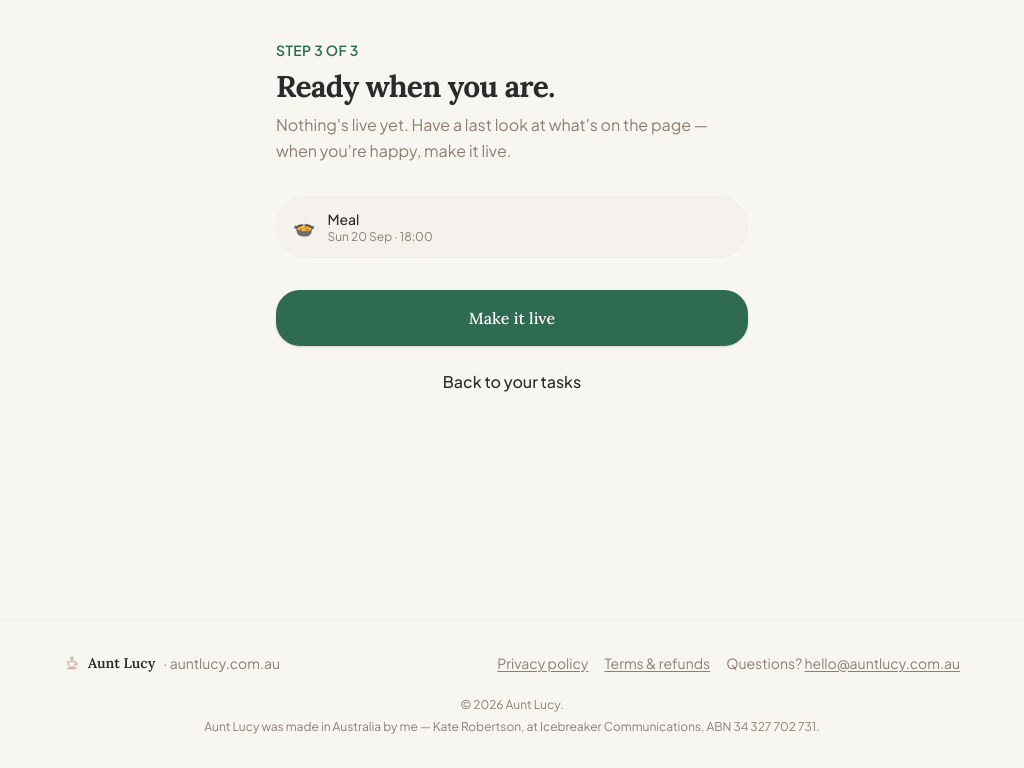
Test: going live takes the button AND the confirm › the button alone publishes nothing; answering the confirm publishes — once
This screenshot has width=1024, height=768.
Click the button "Make it live" at (512, 318), box top-left (276, 290), bottom-right (748, 346)
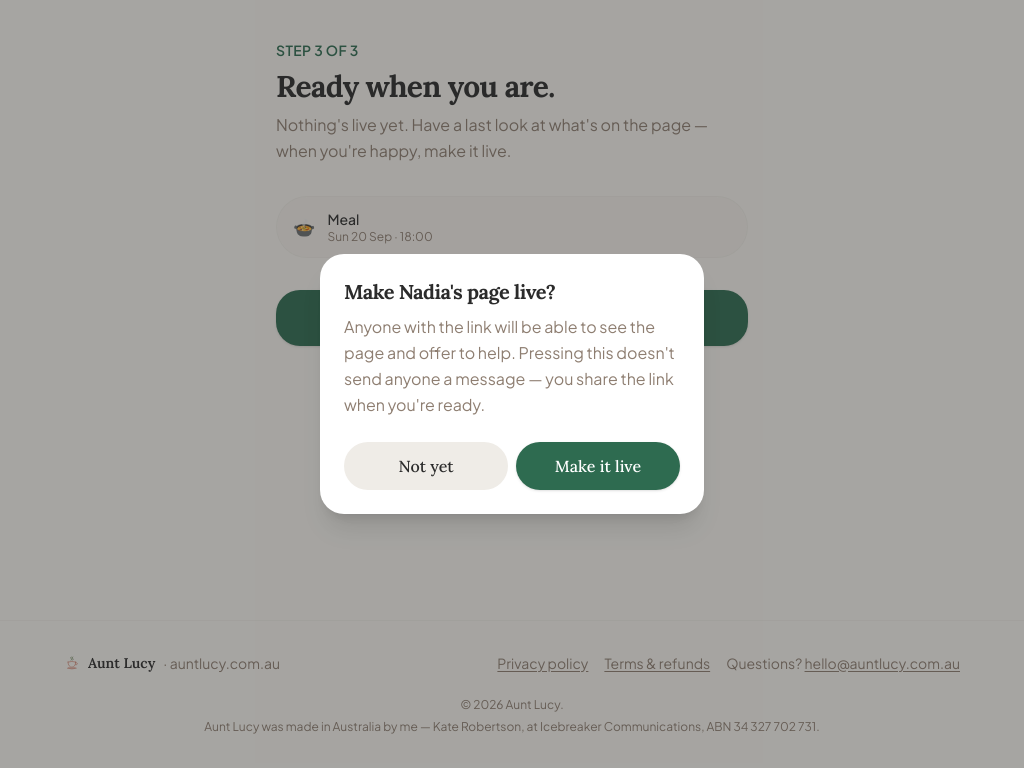
# THE POSITIVE CONTROL: the guard discriminates, it does not just block.
Click the button "Make it live" at (598, 466), box top-left (516, 442), bottom-right (680, 490)
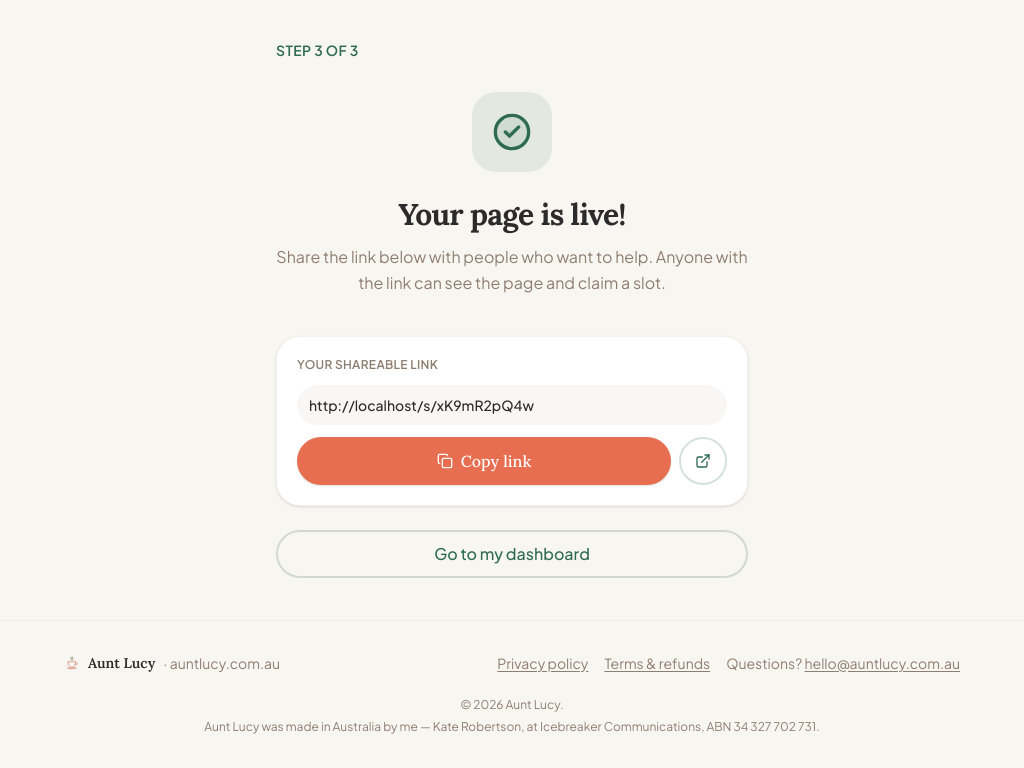
Expected: the text "http://localhost/s/xK9mR2pQ4w" is shown, top-left (297, 385), bottom-right (727, 425)
Expected: the dialog is gone
